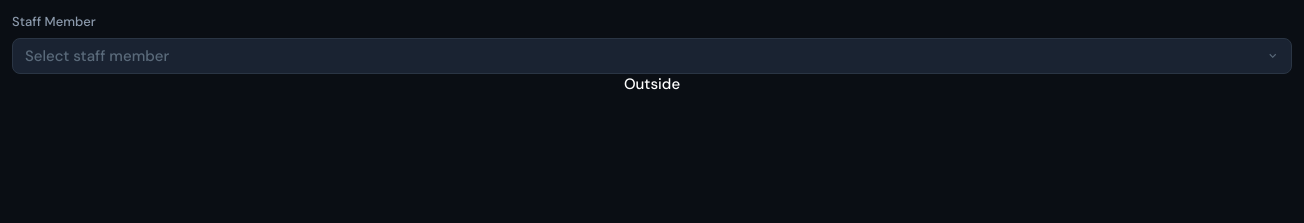
it: SearchableSelect › picks the active match on Tab with a typed query and leaves the default so focus moves on
Press b in the button "Select staff member", box [12,38,1292,74]
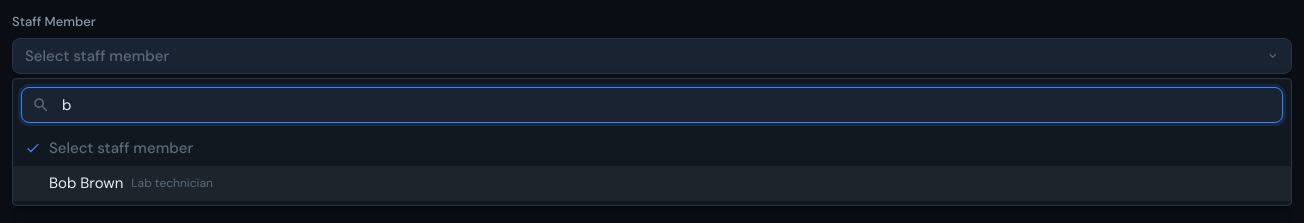
Replace the text in the dropdown named "Find a person" with "bro" at x=652, y=104, box [21,86,1283,122]
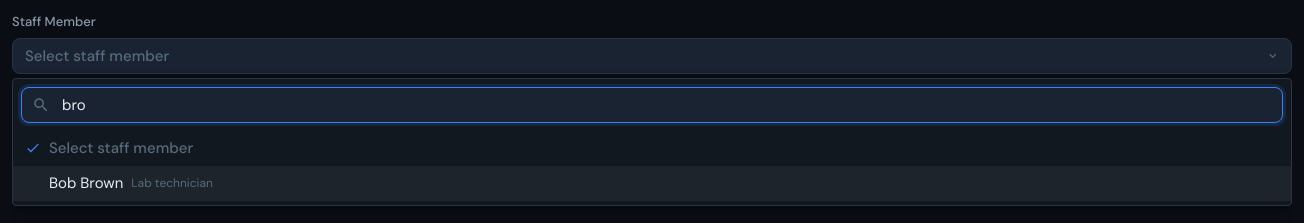
# Not prevented: the browser's own Tab then moves on from the trigger.
Press Tab in the dropdown named "Find a person", box [21,86,1283,122]
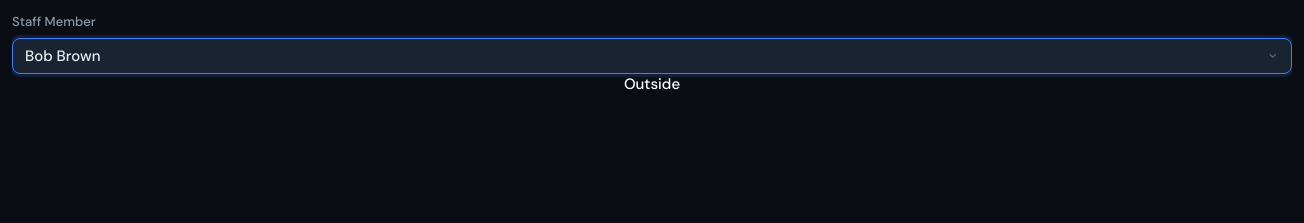
Now the list is gone
